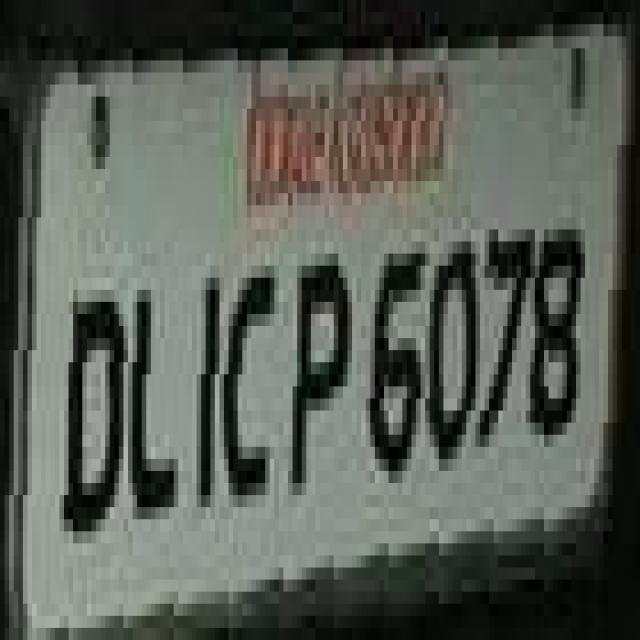plate: (0, 84, 612, 640)
